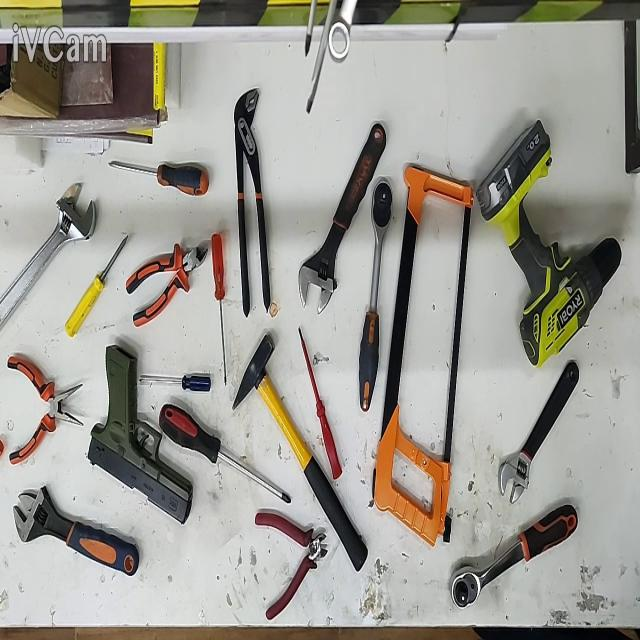Screwdriver: (159, 404, 291, 506), (299, 327, 344, 480), (64, 236, 128, 337), (108, 162, 209, 194), (211, 234, 226, 388), (139, 373, 211, 391)
